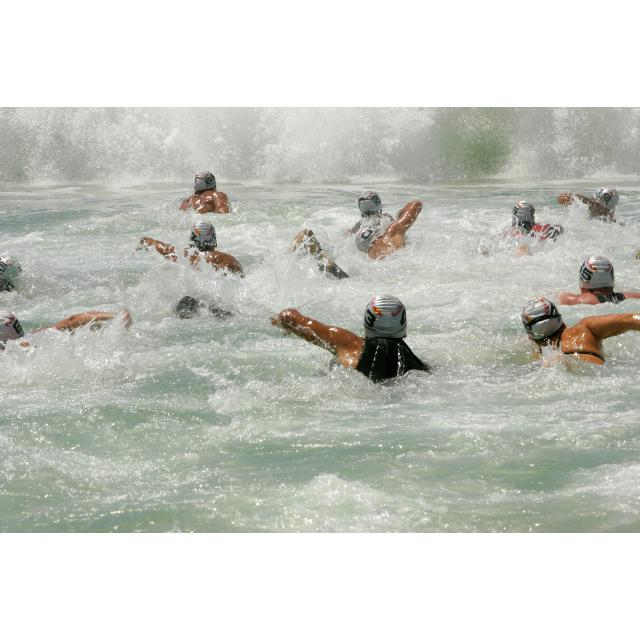human: (271, 287, 429, 381), (518, 289, 640, 390), (1, 295, 138, 356), (134, 221, 244, 286), (542, 252, 640, 309), (349, 194, 431, 260), (491, 198, 560, 254), (172, 169, 231, 218), (547, 181, 618, 218)
